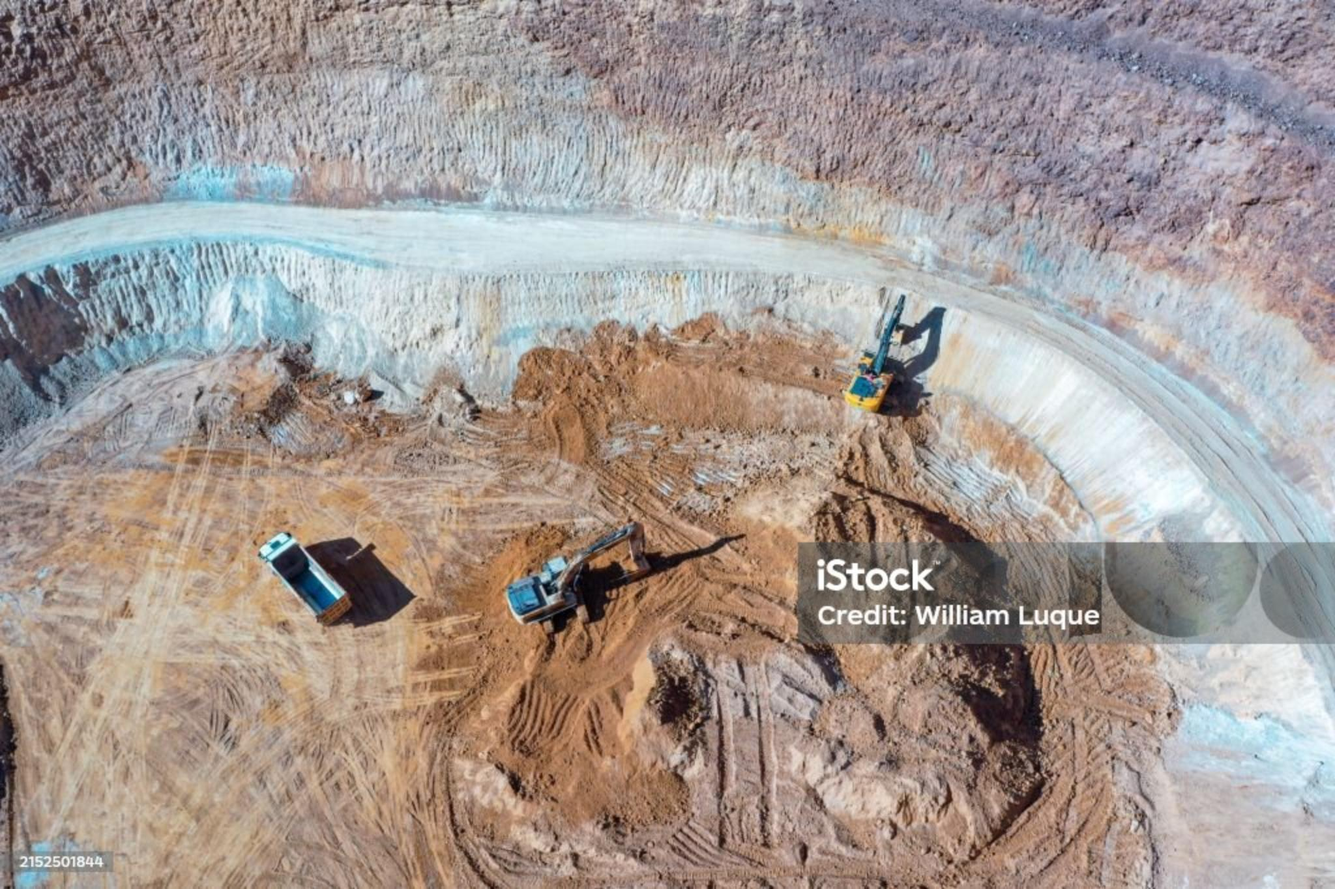benches: (0, 201, 1313, 540)
excavator: (500, 508, 650, 639), (847, 293, 915, 411)
truck: (256, 524, 369, 639)
wall: (0, 0, 1334, 507)
